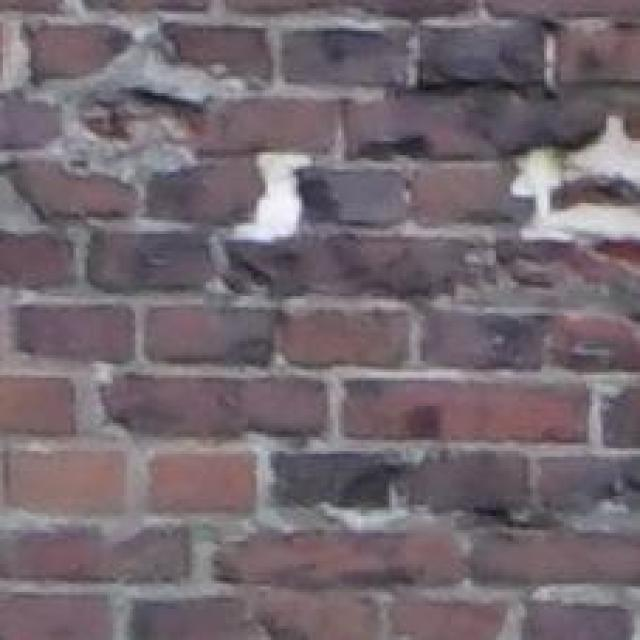Crack: (10, 0, 640, 420)
